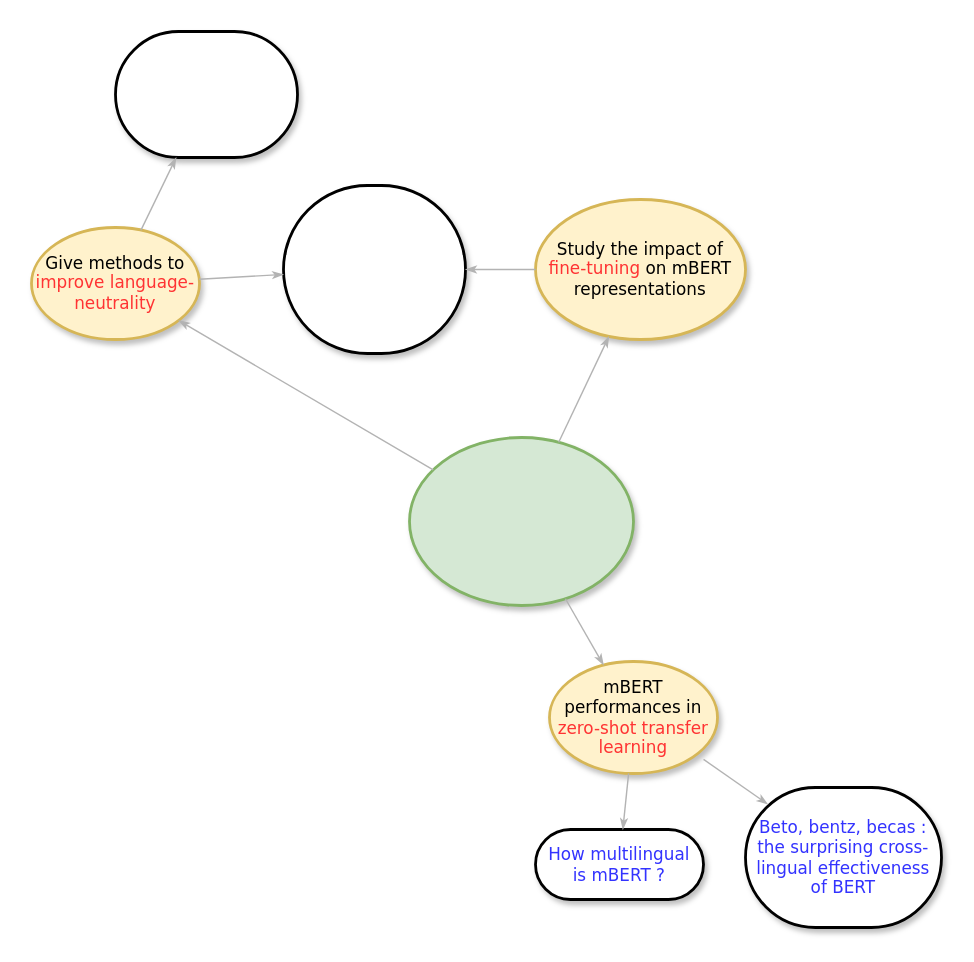
This 974x962 diagram has some shape labels left out. Each missing label, with the centre of its shape:
"Articles on multilingual models" goes at (x=522, y=523).
"On the Language neutrality of pretrained multilingual representations." goes at (x=207, y=96).
"On the Language-specificity of Multilingual BERT and the Impact of Fine-tuning" goes at (x=375, y=271).
